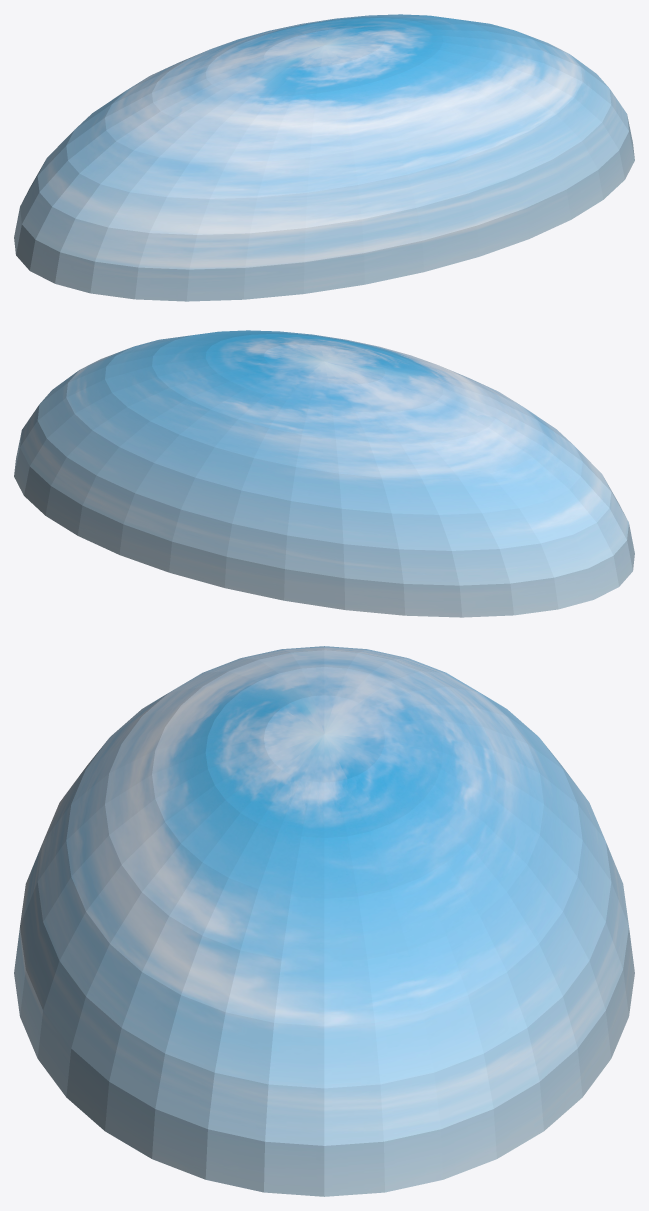
Rendered from nebo.glb.
3 renders of one model, top to bottom at view 1: azimuth 30°, elevation 25°; view 2: azimuth 150°, elevation 25°; view 3: azimuth 270°, elevation 25°, orthographic. The views are drawn at different scales.
Visible parts, largest first — view 1: Sphere; view 2: Sphere; view 3: Sphere.
Boxes of the visible parts, x1,y1,x2,y2 form: Sphere: (14,14,634,301); Sphere: (14,330,634,617); Sphere: (14,646,634,1196).
Size of the model in its own units: 17.1 by 4.26 by 10.03.
1 material, 1 textured.
